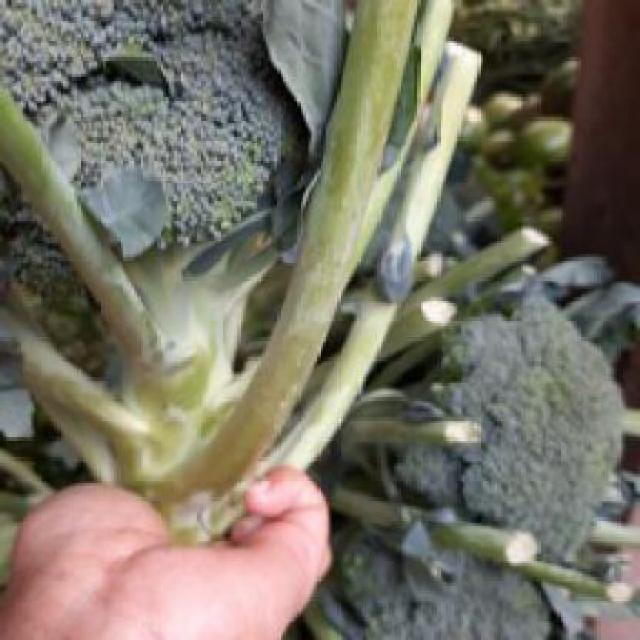broccoli: (2, 3, 410, 482), (408, 292, 614, 532), (306, 540, 600, 629)
